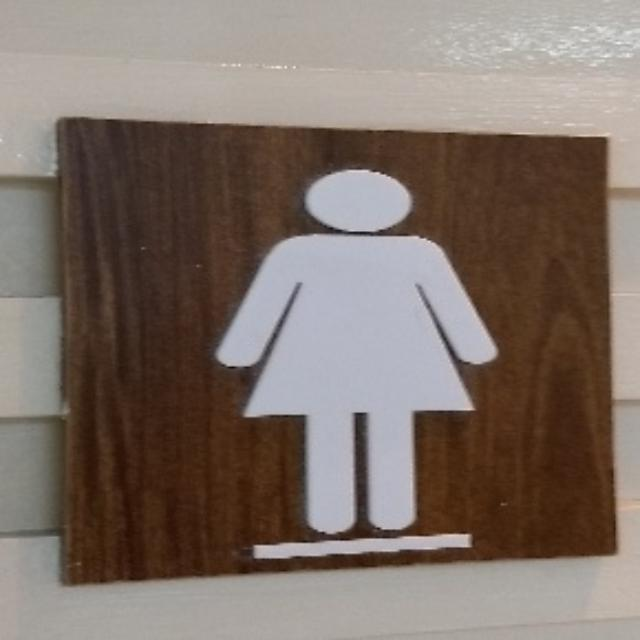wc nu: (60, 121, 614, 583)
